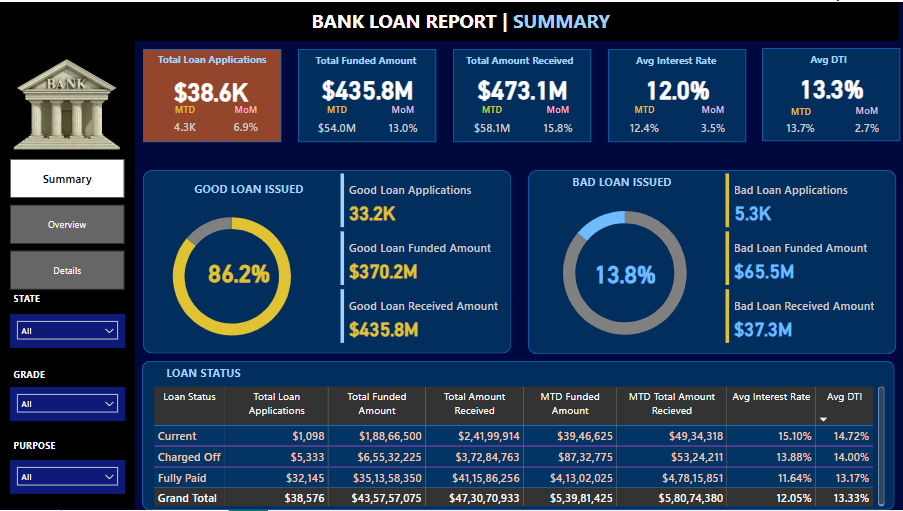

This screenshot's page, from the dashboard's own definition file:
{"tool":"powerbi","page":{"name":"Summary","canvas":[1280,720],"ordinal":0},"visuals":[{"type":"shape","box":[0,0,1279.8,55.3],"z":0},{"type":"shape","box":[1079.9,65.2,195.6,131.8],"z":0,"group":"g5"},{"type":"shape","box":[202.7,66.6,195.6,131.8],"z":0,"group":"g1"},{"type":"shape","box":[422.3,66.6,195.6,131.8],"z":0,"group":"g2"},{"type":"shape","box":[641.5,66.6,195.6,131.8],"z":0,"group":"g3"},{"type":"shape","box":[860.7,66.6,195.6,131.8],"z":0,"group":"g4"},{"type":"shape","box":[0,55.3,191.3,664.7],"z":1000},{"type":"card","fields":{"Values":["bank_loan_data.Avg DTI"]},"box":[1083.8,96.9,191.3,49.6],"z":1000,"group":"g5"},{"type":"card","fields":{"Values":["bank_loan_data.Total Funded Amount"]},"box":[426.2,98.3,191.3,49.6],"z":1000,"group":"g2"},{"type":"card","fields":{"Values":["bank_loan_data.Total Amount Received"]},"box":[645.4,98.3,191.3,49.6],"z":1000,"group":"g3"},{"type":"card","fields":{"Values":["bank_loan_data.Avg Interest Rate"]},"box":[864.6,98.3,191.3,49.6],"z":1000,"group":"g4"},{"type":"card","fields":{"Values":["bank_loan_data.Total Loan Applications"]},"box":[200.3,101.2,198.4,49.6],"z":1000,"group":"g1"},{"type":"textbox","box":[1078.9,66.1,195.6,31.2],"z":2000,"group":"g5"},{"type":"textbox","box":[202.7,66.6,195.6,31.2],"z":2000,"group":"g1"},{"type":"textbox","box":[421.3,67.5,195.6,31.2],"z":2000,"group":"g2"},{"type":"textbox","box":[640.5,67.5,195.6,31.2],"z":2000,"group":"g3"},{"type":"textbox","box":[859.7,67.5,195.6,31.2],"z":2000,"group":"g4"},{"type":"shape","box":[202.7,238.1,522,260],"z":2000},{"type":"card","title":"MTD","fields":{"Values":["bank_loan_data.MTD Loan Applications"]},"box":[231.1,143.7,62.4,55.3],"z":3000,"group":"g1"},{"type":"card","title":"MTD","fields":{"Values":["bank_loan_data.MTD Funded Amount"]},"box":[443.2,143.7,70.9,56.7],"z":3000,"group":"g2"},{"type":"card","title":"MTD","fields":{"Values":["bank_loan_data.MTD Total Amount Recieved"]},"box":[661.3,143.7,70.9,56.7],"z":3000,"group":"g3"},{"type":"card","title":"MTD","fields":{"Values":["bank_loan_data.MTD Avg Int Rate"]},"box":[873.2,143.7,78,56.7],"z":3000,"group":"g4"},{"type":"card","title":"MTD","fields":{"Values":["bank_loan_data.MTD Avg DTI"]},"box":[1100.3,145.7,70.9,52.4],"z":3000,"group":"g5"},{"type":"card","fields":{"Values":["bank_loan_data.Good Loan %"]},"box":[270.7,357.2,136.1,49.6],"z":3000},{"type":"textbox","box":[436.5,2.8,449.3,52.4],"z":4000},{"type":"card","title":"MoM","fields":{"Values":["bank_loan_data.MoM Loan Application"]},"box":[314.7,143.7,68,55.3],"z":4000,"group":"g1"},{"type":"card","title":"MoM","fields":{"Values":["bank_loan_data.MoM Total Funded Amount"]},"box":[542.4,143.7,59.5,56.7],"z":4000,"group":"g2"},{"type":"card","title":"MoM","fields":{"Values":["bank_loan_data.MoM Total Amount Recieved"]},"box":[760.5,143.7,59.5,56.7],"z":4000,"group":"g3"},{"type":"card","title":"MoM","fields":{"Values":["bank_loan_data.MoM Avg Int Rate"]},"box":[979.5,143.7,59.5,56.7],"z":4000,"group":"g4"},{"type":"card","title":"MoM","fields":{"Values":["bank_loan_data.MoM Avg DTI"]},"box":[1199.5,144.3,59.5,53.9],"z":4000,"group":"g5"},{"type":"group","id":"g1","title":"Group 1","box":[200.3,66.6,198.4,132.4],"z":5000},{"type":"group","id":"g2","title":"Group 1","box":[421.3,66.6,196.6,133.8],"z":6000},{"type":"shape","box":[201.3,508.8,1067.2,211.2],"z":7000},{"type":"group","id":"g3","title":"Group 1","box":[640.5,66.6,196.6,133.8],"z":8000},{"type":"group","id":"g4","title":"Group 1","box":[859.7,66.6,196.6,133.8],"z":9000},{"type":"group","id":"g5","title":"Group 1","box":[1078.9,65.2,196.6,132.9],"z":10000},{"type":"shape","box":[748.3,238.1,521.6,260.8],"z":11000},{"type":"donutChart","fields":{"Category":["bank_loan_data.Good Vs Bad Loan"],"Y":["bank_loan_data.Total Loan Applications"]},"box":[204.1,279.2,249.4,219.7],"z":12000},{"type":"cardVisual","fields":{"Data":["bank_loan_data.Good Loan Applications","bank_loan_data.Good Loan Funded Amount","bank_loan_data.Good Loan Received Amount"]},"box":[477.6,238.1,246.6,252.3],"z":13000},{"type":"donutChart","fields":{"Category":["bank_loan_data.Good Vs Bad Loan"],"Y":["bank_loan_data.Total Loan Applications"]},"box":[761.1,269.3,249.4,229.6],"z":14000},{"type":"textbox","box":[783.8,238.1,195.6,31.2],"z":15000},{"type":"card","fields":{"Values":["bank_loan_data.Bad Loan %"]},"box":[817.8,358.6,136.1,49.6],"z":16000},{"type":"cardVisual","fields":{"Data":["bank_loan_data.Bad Loan Applications","bank_loan_data.Bad Loan Funded Amount","bank_loan_data.Bad Loan Received Amount"]},"box":[1023.3,238.1,246.6,252.3],"z":17000},{"type":"textbox","box":[231,508.8,137.5,31.2],"z":18000},{"type":"tableEx","fields":{"Values":["bank_loan_data.loan_status","bank_loan_data.Total Loan Applications","bank_loan_data.Total Funded Amount","bank_loan_data.Total Amount Received","bank_loan_data.MTD Funded Amount","bank_loan_data.MTD Total Amount Recieved","bank_loan_data.Avg Interest Rate","bank_loan_data.Avg DTI"]},"box":[212.6,540,1046,180],"z":19000},{"type":"slicer","fields":{"Values":["bank_loan_data.address_state"]},"box":[14.2,442.2,163,48.2],"z":20000},{"type":"textbox","box":[14.2,406.8,60.9,31.2],"z":21000},{"type":"textbox","box":[262.2,248,181.4,31.2],"z":22000},{"type":"slicer","fields":{"Values":["bank_loan_data.grade"]},"box":[14.2,545.7,163,48.2],"z":23000},{"type":"textbox","box":[14.2,514.5,72.3,31.2],"z":24000},{"type":"slicer","fields":{"Values":["bank_loan_data.purpose"]},"box":[14.2,649.1,163,48.2],"z":25000},{"type":"textbox","box":[14.2,615.1,82.2,34],"z":26000},{"type":"image","box":[14.2,68,163,154.5],"z":26001},{"type":"pageNavigator","box":[14.2,222.5,163,185.7],"z":26002}]}

Visuals, with their boxes in screenshot pixels (x1, y1, x2, y2), scaled from the page's 1280x720 canvas onto the 903x511 screenshot:
shape: {"x1": 0, "y1": 0, "x2": 902, "y2": 39}
shape: {"x1": 762, "y1": 46, "x2": 900, "y2": 140}
shape: {"x1": 143, "y1": 47, "x2": 281, "y2": 141}
shape: {"x1": 298, "y1": 47, "x2": 436, "y2": 141}
shape: {"x1": 453, "y1": 47, "x2": 591, "y2": 141}
shape: {"x1": 607, "y1": 47, "x2": 745, "y2": 141}
shape: {"x1": 0, "y1": 39, "x2": 135, "y2": 510}
card - bank_loan_data.Avg DTI: {"x1": 765, "y1": 69, "x2": 900, "y2": 104}
card - bank_loan_data.Total Funded Amount: {"x1": 301, "y1": 70, "x2": 436, "y2": 105}
card - bank_loan_data.Total Amount Received: {"x1": 455, "y1": 70, "x2": 590, "y2": 105}
card - bank_loan_data.Avg Interest Rate: {"x1": 610, "y1": 70, "x2": 745, "y2": 105}
card - bank_loan_data.Total Loan Applications: {"x1": 141, "y1": 72, "x2": 281, "y2": 107}
textbox: {"x1": 761, "y1": 47, "x2": 899, "y2": 69}
textbox: {"x1": 143, "y1": 47, "x2": 281, "y2": 69}
textbox: {"x1": 297, "y1": 48, "x2": 435, "y2": 70}
textbox: {"x1": 452, "y1": 48, "x2": 590, "y2": 70}
textbox: {"x1": 606, "y1": 48, "x2": 744, "y2": 70}
shape: {"x1": 143, "y1": 169, "x2": 511, "y2": 354}
"MTD" card: {"x1": 163, "y1": 102, "x2": 207, "y2": 141}
"MTD" card: {"x1": 313, "y1": 102, "x2": 363, "y2": 142}
"MTD" card: {"x1": 467, "y1": 102, "x2": 517, "y2": 142}
"MTD" card: {"x1": 616, "y1": 102, "x2": 671, "y2": 142}
"MTD" card: {"x1": 776, "y1": 103, "x2": 826, "y2": 141}
card - bank_loan_data.Good Loan %: {"x1": 191, "y1": 254, "x2": 287, "y2": 289}
textbox: {"x1": 308, "y1": 2, "x2": 625, "y2": 39}
"MoM" card: {"x1": 222, "y1": 102, "x2": 270, "y2": 141}
"MoM" card: {"x1": 383, "y1": 102, "x2": 425, "y2": 142}
"MoM" card: {"x1": 537, "y1": 102, "x2": 578, "y2": 142}
"MoM" card: {"x1": 691, "y1": 102, "x2": 733, "y2": 142}
"MoM" card: {"x1": 846, "y1": 102, "x2": 888, "y2": 141}
"Group 1" group: {"x1": 141, "y1": 47, "x2": 281, "y2": 141}
"Group 1" group: {"x1": 297, "y1": 47, "x2": 436, "y2": 142}
shape: {"x1": 142, "y1": 361, "x2": 895, "y2": 510}
"Group 1" group: {"x1": 452, "y1": 47, "x2": 591, "y2": 142}
"Group 1" group: {"x1": 606, "y1": 47, "x2": 745, "y2": 142}
"Group 1" group: {"x1": 761, "y1": 46, "x2": 900, "y2": 141}
shape: {"x1": 528, "y1": 169, "x2": 896, "y2": 354}
donutChart - bank_loan_data.Good Vs Bad Loan x bank_loan_data.Total Loan Applications: {"x1": 144, "y1": 198, "x2": 320, "y2": 354}
cardVisual - bank_loan_data.Good Loan Applications x bank_loan_data.Good Loan Funded Amount: {"x1": 337, "y1": 169, "x2": 511, "y2": 348}
donutChart - bank_loan_data.Good Vs Bad Loan x bank_loan_data.Total Loan Applications: {"x1": 537, "y1": 191, "x2": 713, "y2": 354}
textbox: {"x1": 553, "y1": 169, "x2": 691, "y2": 191}
card - bank_loan_data.Bad Loan %: {"x1": 577, "y1": 255, "x2": 673, "y2": 290}
cardVisual - bank_loan_data.Bad Loan Applications x bank_loan_data.Bad Loan Funded Amount: {"x1": 722, "y1": 169, "x2": 896, "y2": 348}
textbox: {"x1": 163, "y1": 361, "x2": 260, "y2": 383}
tableEx - bank_loan_data.loan_status x bank_loan_data.Total Loan Applications: {"x1": 150, "y1": 383, "x2": 888, "y2": 510}
slicer - bank_loan_data.address_state: {"x1": 10, "y1": 314, "x2": 125, "y2": 348}
textbox: {"x1": 10, "y1": 289, "x2": 53, "y2": 311}
textbox: {"x1": 185, "y1": 176, "x2": 313, "y2": 198}
slicer - bank_loan_data.grade: {"x1": 10, "y1": 387, "x2": 125, "y2": 422}
textbox: {"x1": 10, "y1": 365, "x2": 61, "y2": 387}
slicer - bank_loan_data.purpose: {"x1": 10, "y1": 461, "x2": 125, "y2": 495}
textbox: {"x1": 10, "y1": 437, "x2": 68, "y2": 461}
image: {"x1": 10, "y1": 48, "x2": 125, "y2": 158}
pageNavigator: {"x1": 10, "y1": 158, "x2": 125, "y2": 290}
